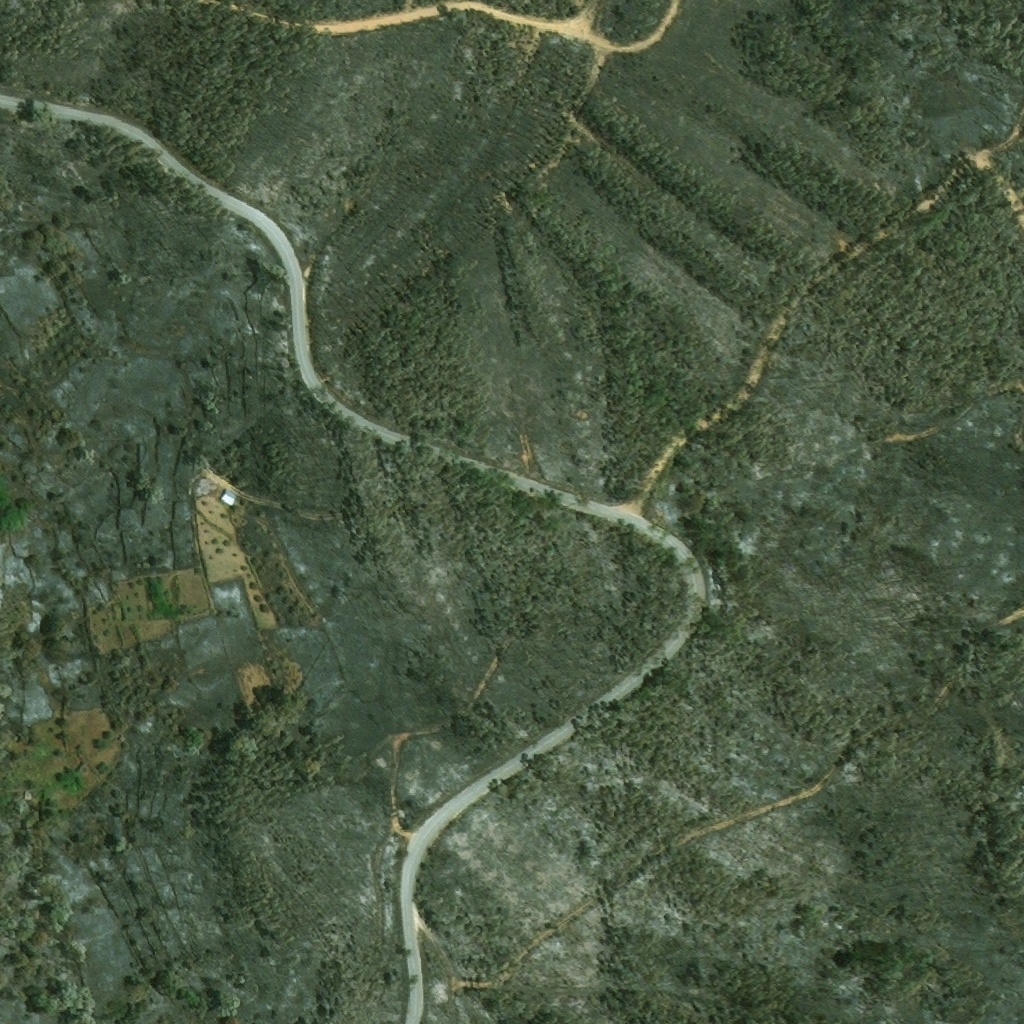0 no-damage: (221, 488, 239, 506)
